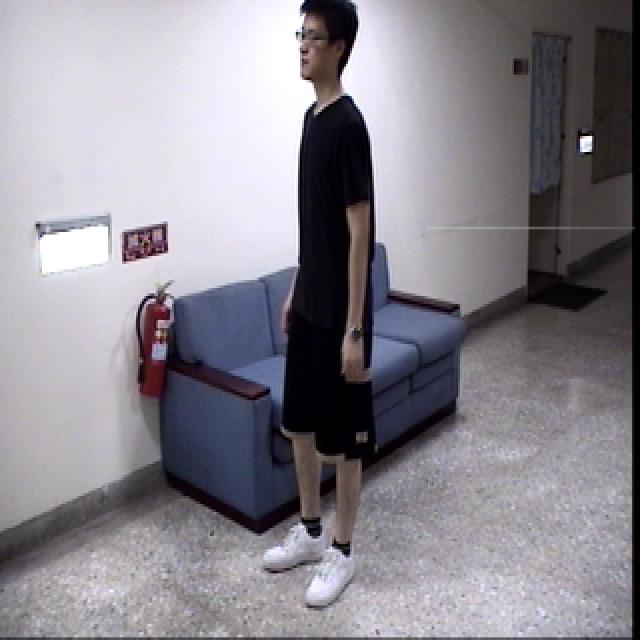stand: (264, 0, 401, 617)
